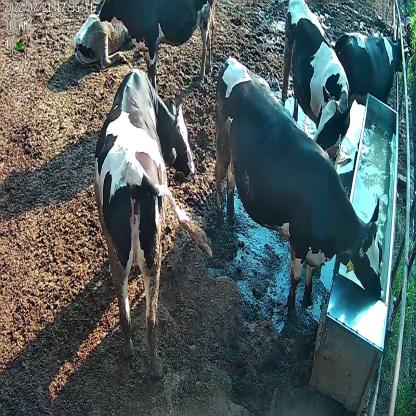cow: (216, 50, 384, 320), (94, 65, 214, 377), (280, 0, 352, 164), (98, 0, 218, 88), (334, 30, 409, 102)
